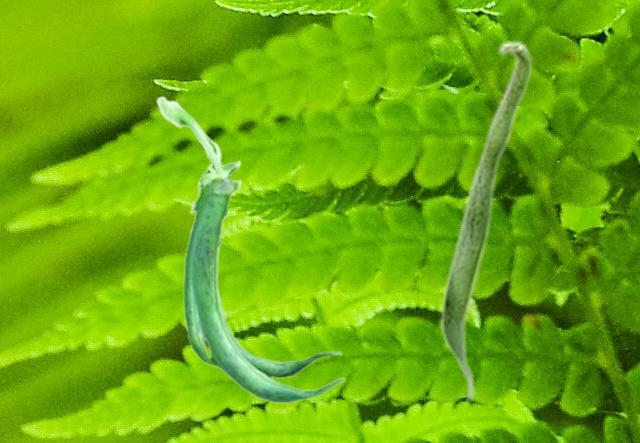french_bean: (155, 95, 344, 403), (439, 39, 532, 404)
